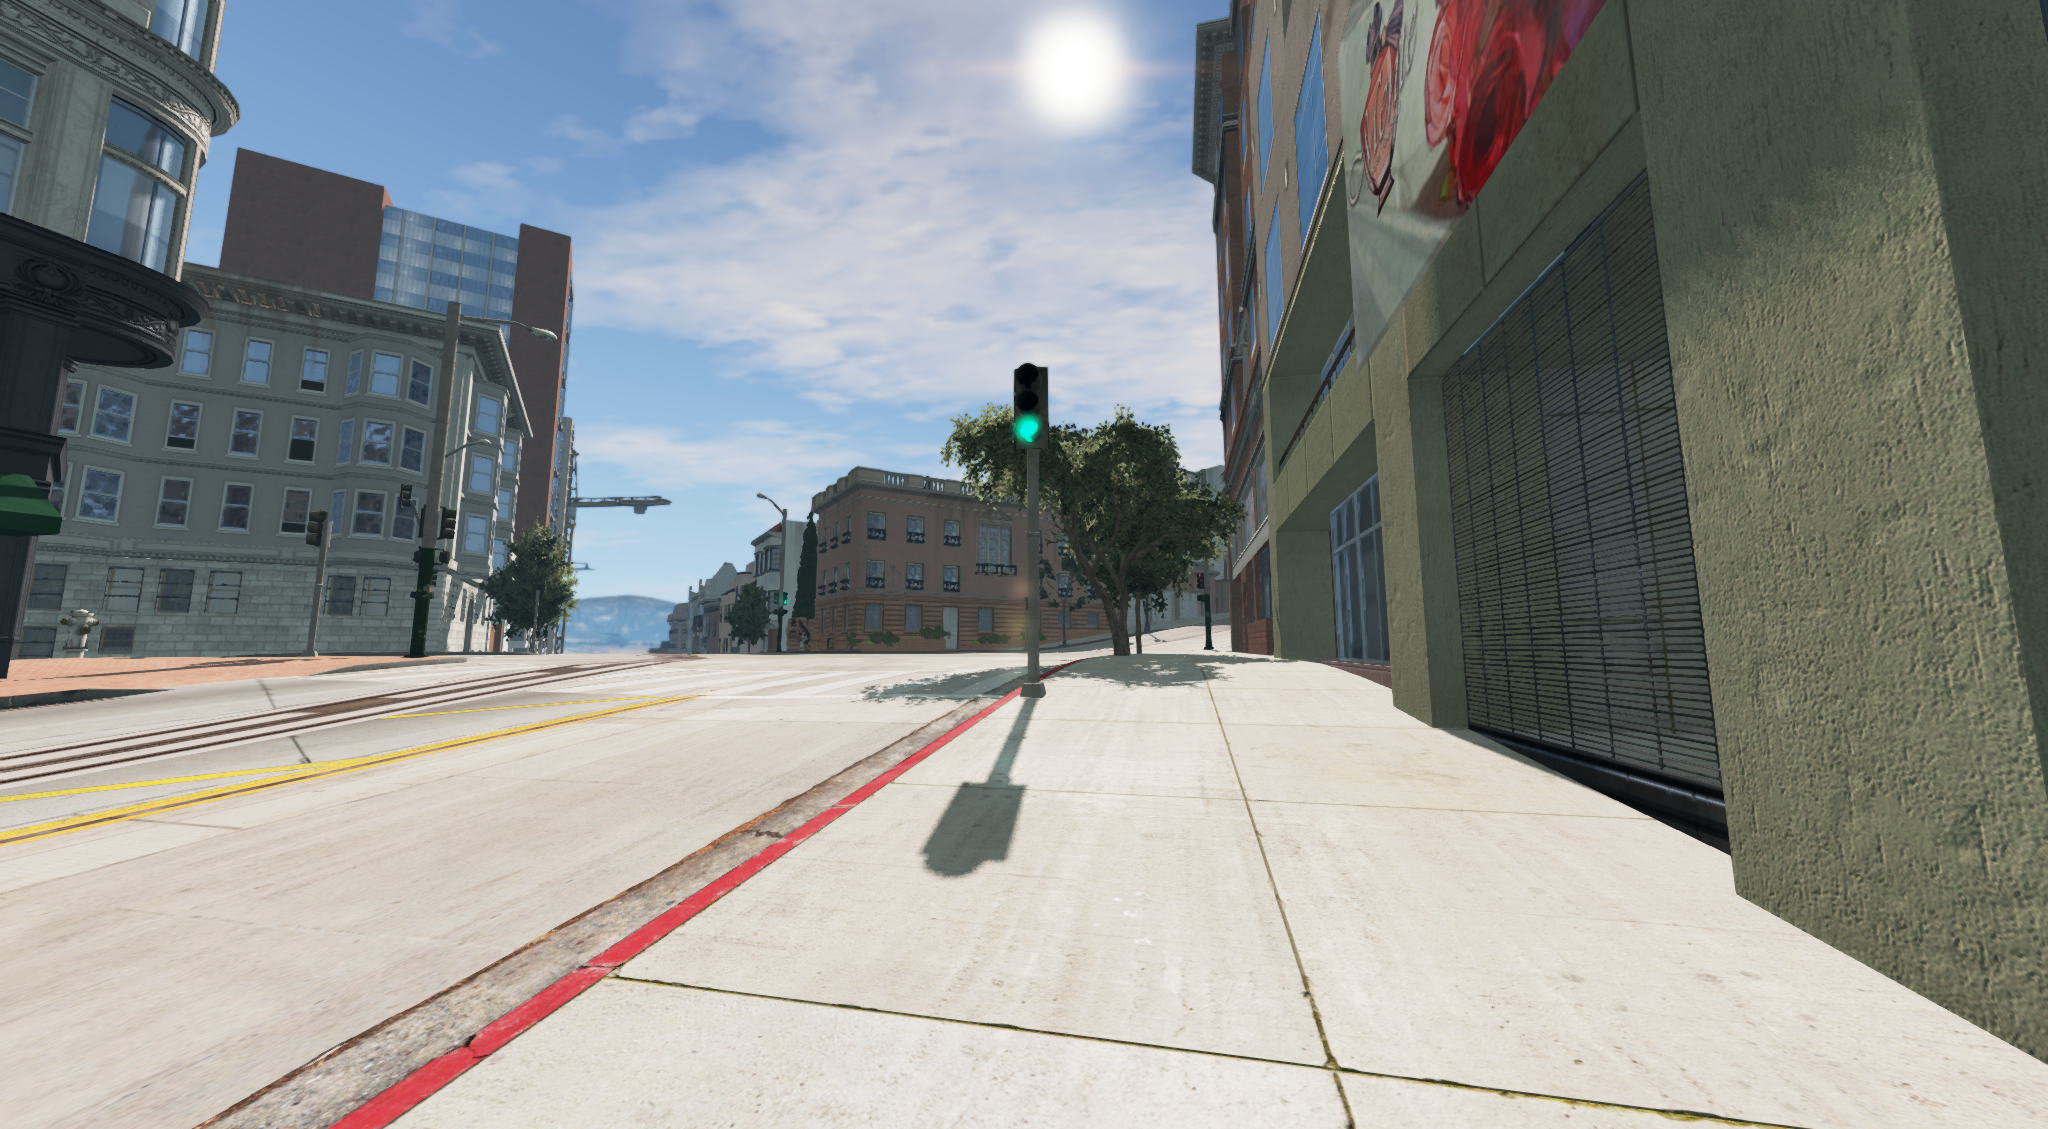green: (1007, 364, 1057, 450)
